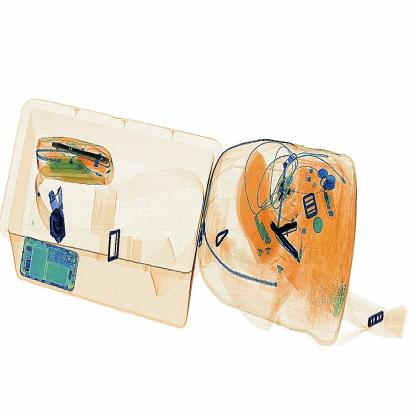knife: (262, 212, 316, 265)
